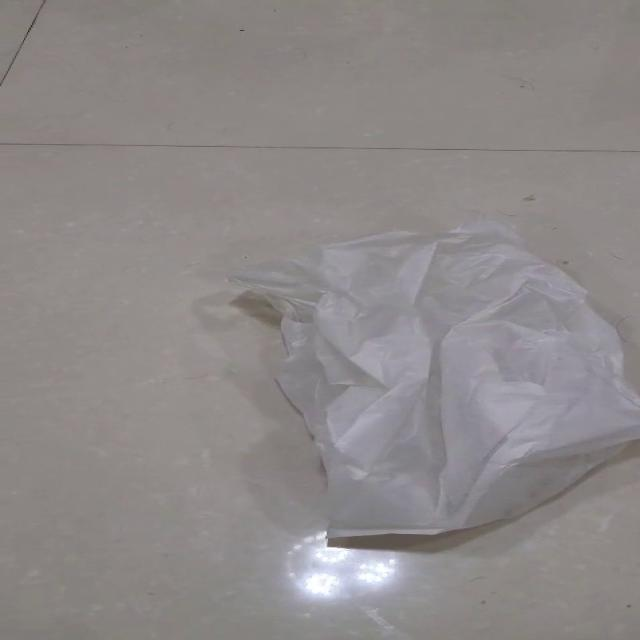plastic: (224, 218, 637, 539)
